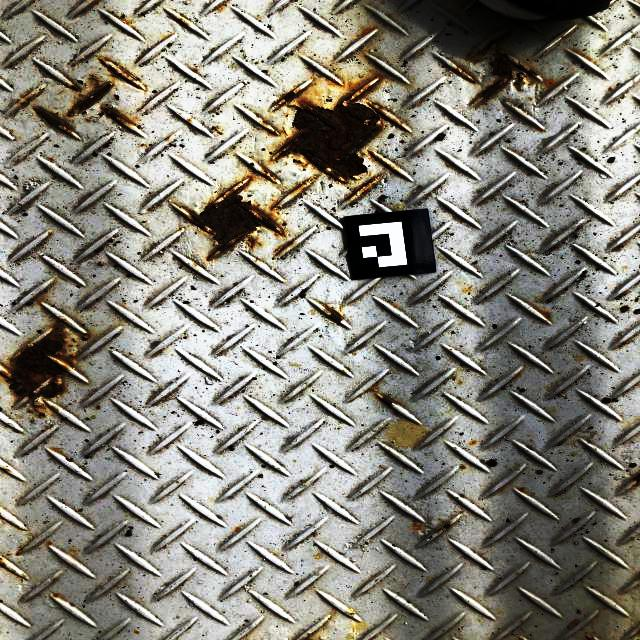Corrosion: (273, 84, 407, 186), (175, 176, 287, 262), (0, 317, 80, 418), (468, 53, 540, 106), (66, 74, 114, 118), (465, 29, 508, 65), (99, 58, 143, 90), (345, 174, 385, 202), (33, 107, 74, 134), (97, 103, 135, 126), (368, 150, 397, 172), (453, 63, 479, 84), (287, 176, 317, 194), (320, 305, 343, 323), (273, 239, 295, 256), (257, 164, 279, 181), (16, 92, 39, 106), (0, 556, 16, 574), (379, 392, 395, 407), (270, 196, 284, 211), (299, 629, 318, 640), (433, 523, 451, 534), (630, 468, 640, 487), (248, 238, 264, 249), (255, 114, 269, 125), (262, 127, 279, 136), (560, 30, 573, 40), (14, 545, 24, 556), (178, 18, 189, 27), (85, 116, 99, 122), (363, 29, 374, 36), (0, 467, 12, 473), (214, 127, 223, 135), (585, 634, 595, 640), (113, 94, 120, 101), (163, 135, 170, 141), (460, 464, 466, 470), (46, 541, 52, 546), (52, 593, 59, 597), (235, 527, 240, 532), (192, 262, 198, 266), (80, 58, 84, 62), (141, 144, 144, 146)
